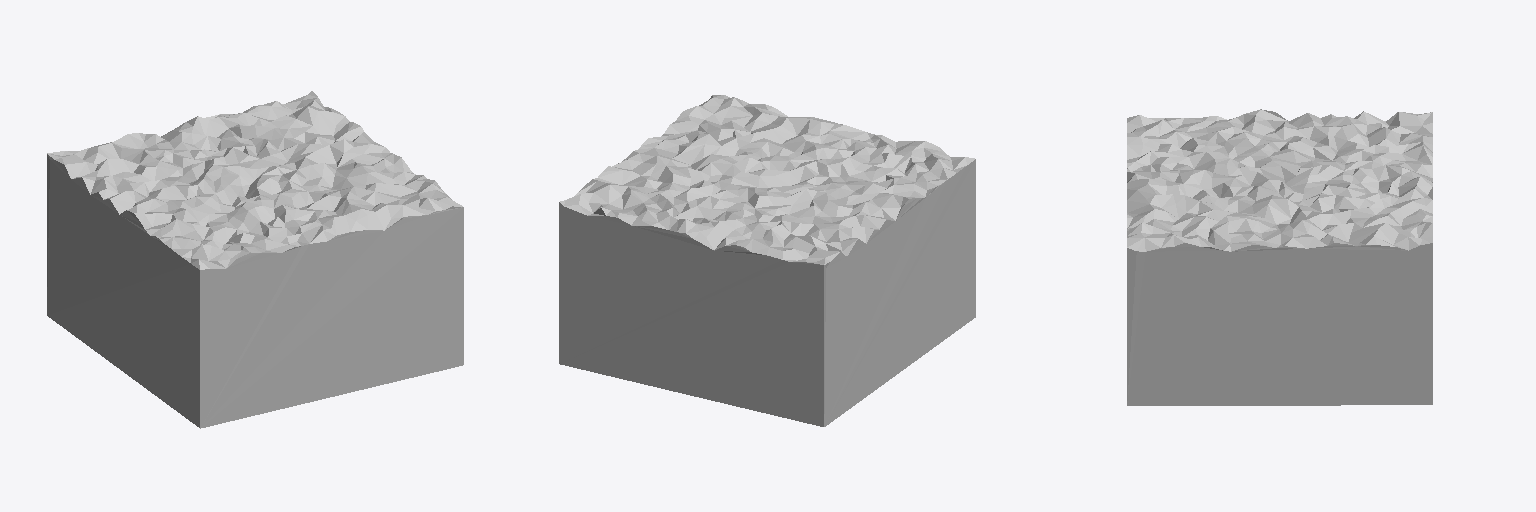
Rendered from water_000009.obj.
The picture shows the model from 3 angles: view 1: azimuth 30°, elevation 25°; view 2: azimuth 150°, elevation 25°; view 3: azimuth 270°, elevation 25°; orthographic projection.
Parts seen in each view (by area): view 1: Plane; view 2: Plane; view 3: Plane.
Part boxes in pixels (x1,y1,x2,y2): Plane: (47,91,463,428); Plane: (559,95,975,426); Plane: (1127,109,1432,405).
Bounding box in the file's own units: 16.15 × 9.95 × 16.12.